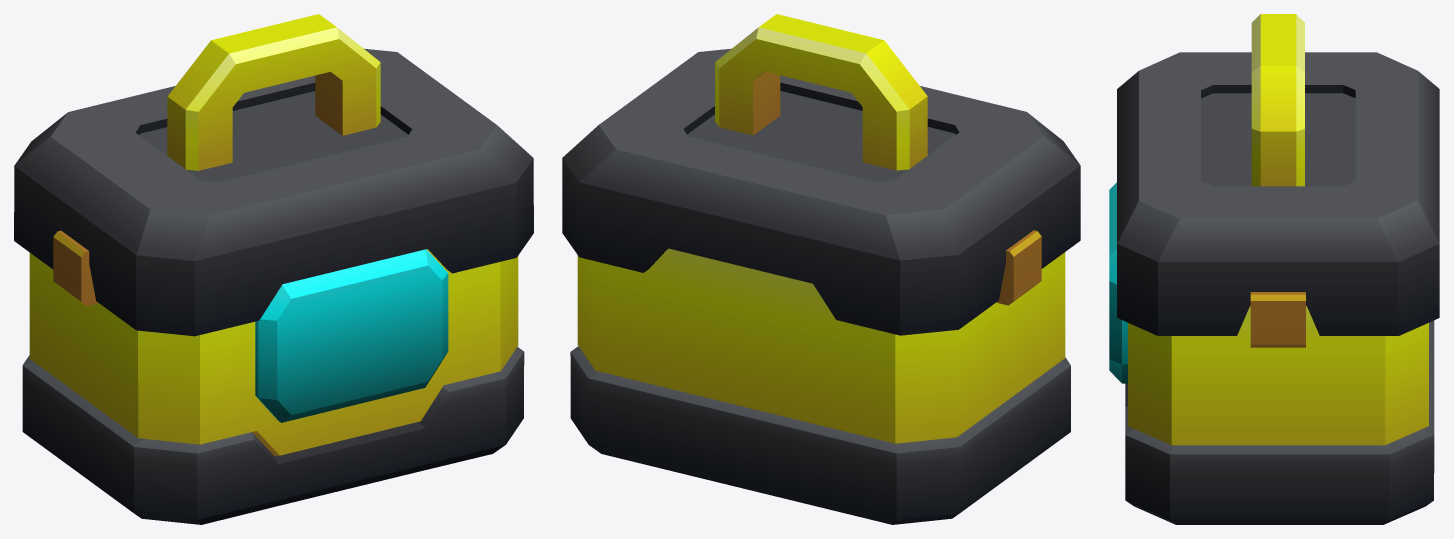
Rendered from SM_Tool_Chest_1.fbx.
3 renders of one model, left to right at view 1: azimuth 30°, elevation 25°; view 2: azimuth 150°, elevation 25°; view 3: azimuth 270°, elevation 25°, orthographic.
Visible parts, largest first — view 1: Cube.006; view 2: Cube.006; view 3: Cube.006.
Part boxes in pixels (<box>): Cube.006: <box>14,14,533,524</box>; Cube.006: <box>562,14,1080,524</box>; Cube.006: <box>1109,14,1439,524</box>.
Size of the model in its own units: 63.42 by 58.69 by 44.34.
